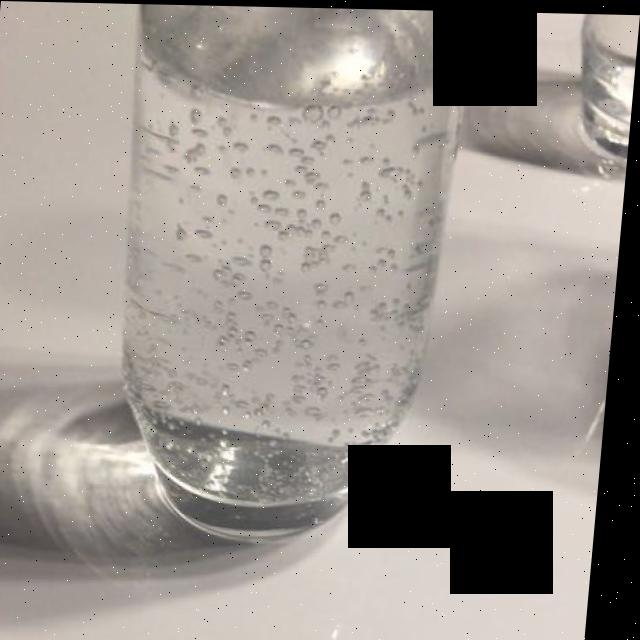water: (136, 30, 453, 512), (133, 41, 460, 485)
